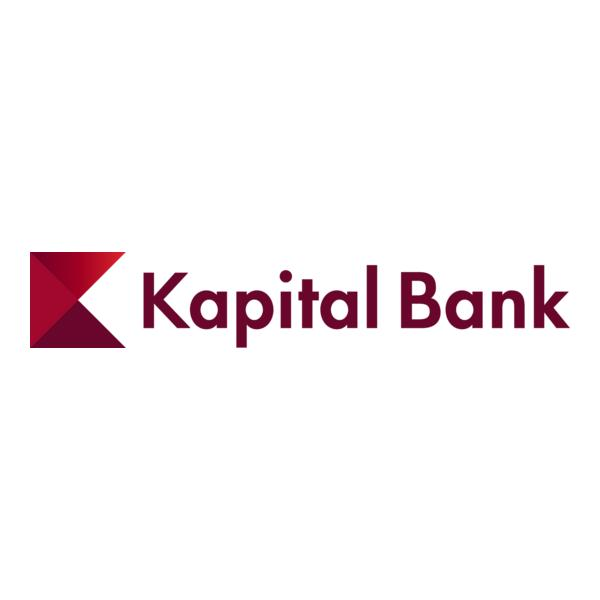Kapital Bank: (27, 249, 128, 351)
